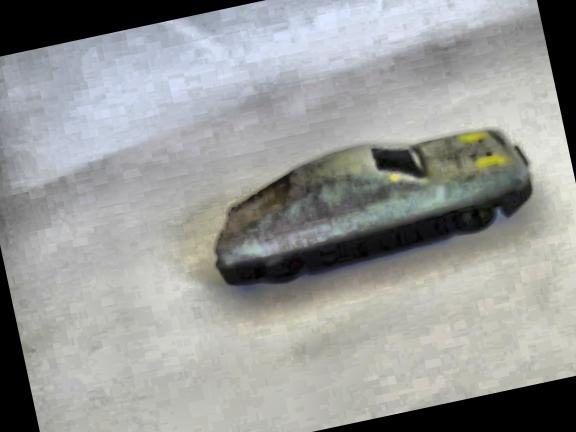normal_car: (188, 106, 546, 300)
